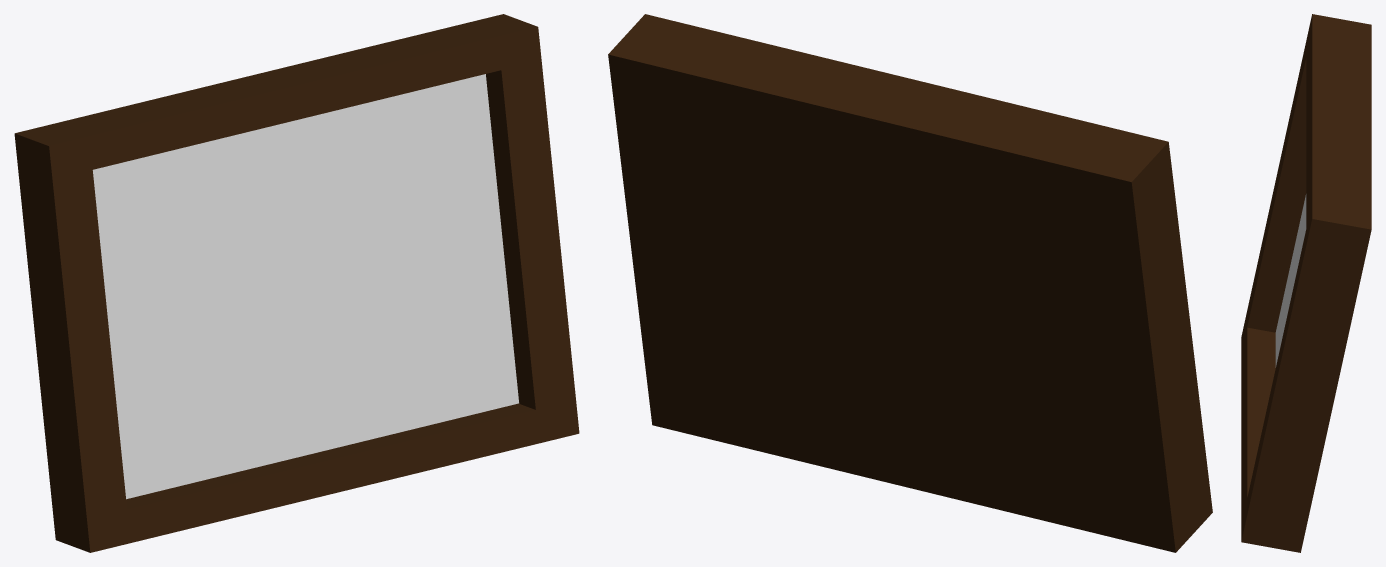
File: frame.fbx
The picture shows the model from 3 angles, left to right: view 1: azimuth 30°, elevation 25°; view 2: azimuth 150°, elevation 25°; view 3: azimuth 270°, elevation 25°; orthographic projection. The views are drawn at different scales.
Parts seen in each view (by area): view 1: frame picture, frame; view 2: frame; view 3: frame, frame picture.
Part boxes in pixels (box(x1,y1,x2,y2)): frame picture: box(92, 74, 518, 499); frame: box(14, 14, 579, 552); frame: box(608, 14, 1212, 552); frame: box(1241, 14, 1371, 552); frame picture: box(1275, 194, 1306, 367).
Size of the model in its own units: 27.91 by 7.5 by 21.21.
